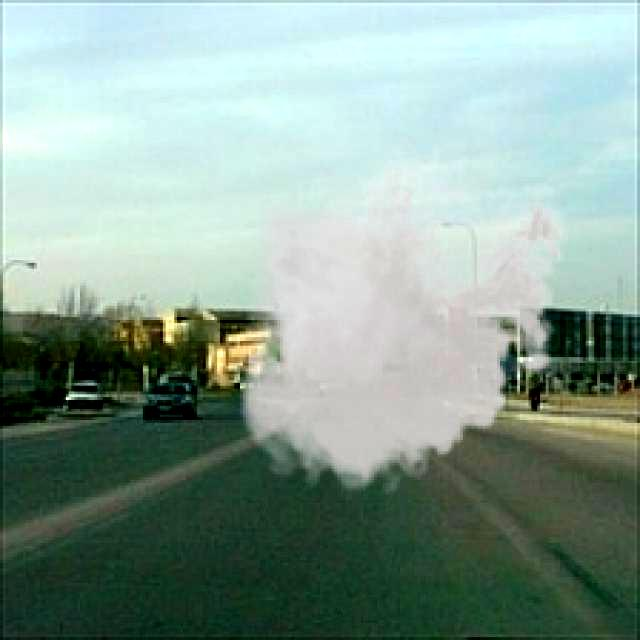Smoke: (229, 146, 574, 503)
